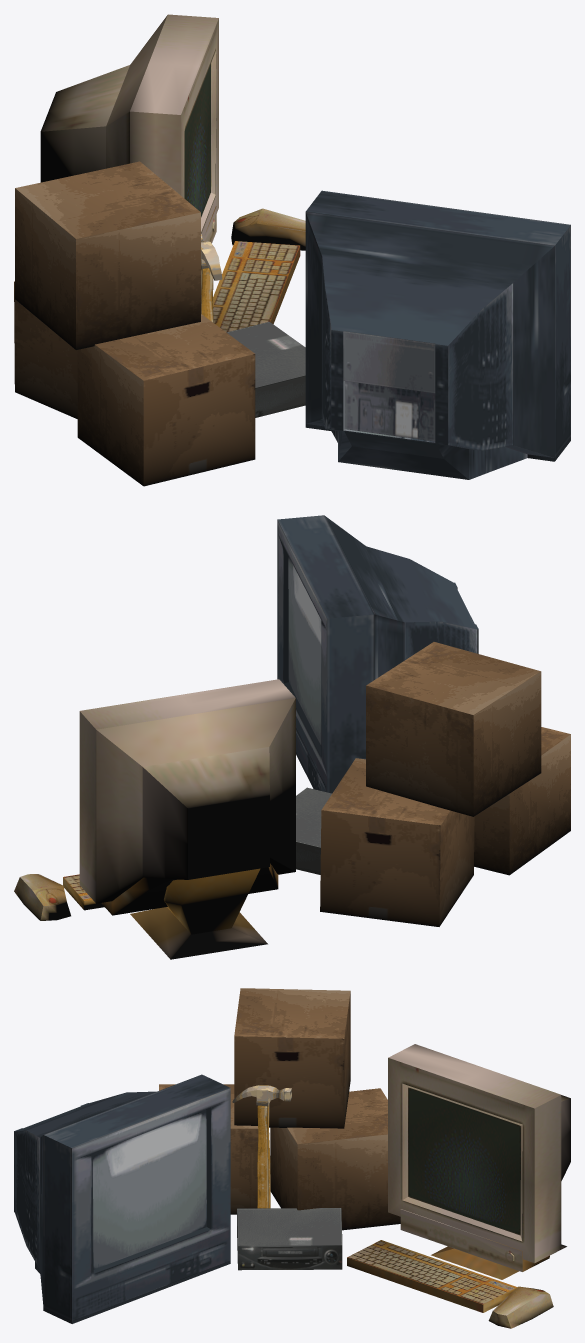
3 renders of one model, top to bottom at view 1: azimuth 30°, elevation 25°; view 2: azimuth 150°, elevation 25°; view 3: azimuth 270°, elevation 25°, orthographic. The views are drawn at different scales.
Parts seen in each view (by area): view 1: TV - Base, Computer, Box - C, Box - B, Box - A, Cube.009, Hammer; view 2: Computer, TV - Base, Box - C, Box - A, Box - B, TV - Screen, Cube.009; view 3: Computer, TV - Base, Box - C, TV - Screen, Box - A, Cube.009, Box - B, Hammer.
Boxes of the visible parts, x1,y1,x2,y2 form: TV - Base: [305, 190, 570, 479]; Computer: [40, 14, 305, 332]; Box - C: [15, 161, 200, 349]; Box - B: [77, 314, 255, 486]; Box - A: [14, 281, 77, 418]; Cube.009: [226, 321, 305, 417]; Hammer: [201, 234, 222, 322]; Computer: [14, 679, 295, 959]; TV - Base: [277, 515, 478, 793]; Box - C: [366, 642, 541, 816]; Box - A: [320, 758, 474, 926]; Box - B: [474, 727, 570, 875]; TV - Screen: [288, 556, 321, 746]; Cube.009: [296, 787, 331, 874]; Computer: [347, 1044, 570, 1328]; TV - Base: [14, 1074, 230, 1323]; Box - C: [234, 988, 350, 1128]; TV - Screen: [93, 1109, 206, 1269]; Box - A: [270, 1088, 400, 1230]; Cube.009: [237, 1208, 342, 1270]; Box - B: [159, 1084, 258, 1214]; Hammer: [232, 1085, 291, 1208].
Bounding box in the file's own units: 3.61 × 1.96 × 5.22.
Materials: 5 (5 with a texture image).
